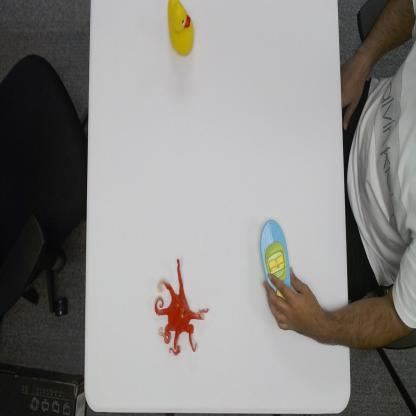Boat: (259, 218, 292, 291)
Duck: (166, 0, 195, 57)
Hand: (262, 267, 324, 337)
Octopus: (154, 256, 209, 356)
